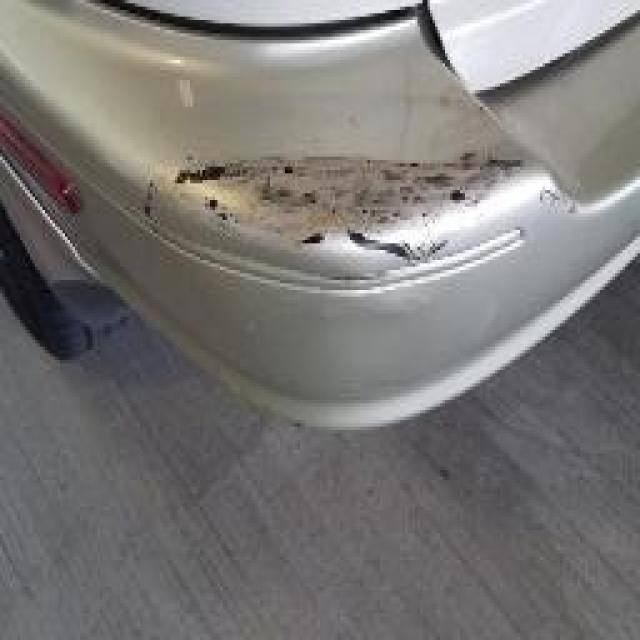Bumper: (117, 20, 574, 432)
